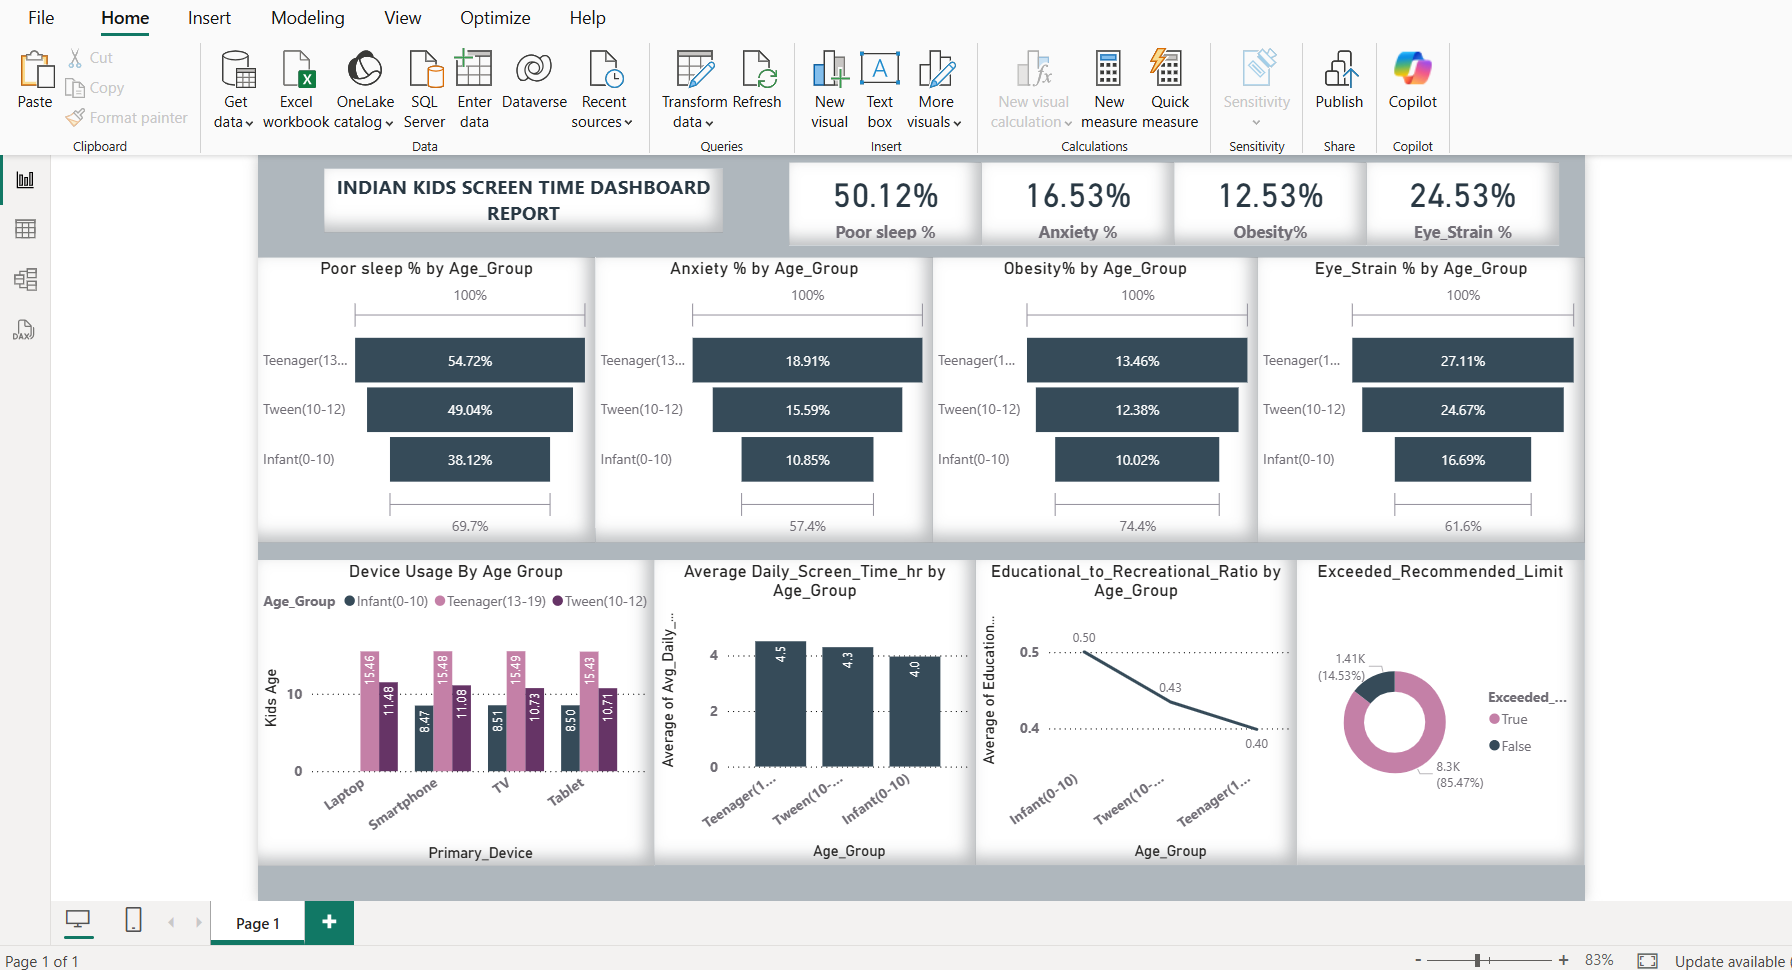

What the dashboard file says about the page in this screenshot:
{"tool":"powerbi","page":{"name":"Page 1","canvas":[1280,720],"ordinal":0},"visuals":[{"type":"clusteredColumnChart","title":" Device Usage By Age Group","fields":{"Category":["Indian_Kids_Screen_Time.Primary_Device"],"Y":["Avg(Indian_Kids_Screen_Time.Age)"],"Series":["Indian_Kids_Screen_Time.Age_Group"]},"box":[0,390.9,382.4,295.6],"z":0},{"type":"card","fields":{"Values":["Indian_Kids_Screen_Time.Measure"]},"box":[512.7,7.2,185.8,79.6],"z":1000},{"type":"card","fields":{"Values":["Indian_Kids_Screen_Time.Anxiety %"]},"box":[698.5,7.2,185.8,80],"z":2000},{"type":"card","fields":{"Values":["Indian_Kids_Screen_Time.Obesity%"]},"box":[884.3,7.2,185.8,80],"z":3000},{"type":"card","fields":{"Values":["Indian_Kids_Screen_Time.Eye_Strain %"]},"box":[1070.1,7.2,185.8,80],"z":4000},{"type":"donutChart","title":"Exceeded_Recommended_Limit","fields":{"Category":["Indian_Kids_Screen_Time.Exceeded_Recommended_Limit"],"Y":["CountNonNull(Indian_Kids_Screen_Time.Exceeded_Recommended_Limit)"]},"box":[1002.6,390.9,277.5,294.4],"z":5000},{"type":"funnel","fields":{"Category":["Indian_Kids_Screen_Time.Age_Group","Indian_Kids_Screen_Time.Urban_or_Rural"],"Y":["Indian_Kids_Screen_Time.Obesity%"]},"box":[651.5,98.9,313.7,275.1],"z":6000},{"type":"funnel","fields":{"Y":["Indian_Kids_Screen_Time.Poor sleep %"],"Category":["Indian_Kids_Screen_Time.Age_Group"]},"box":[0,98.9,325.7,275.1],"z":7000},{"type":"lineChart","title":"Educational_to_Recreational_Ratio by Age_Group","fields":{"Category":["Indian_Kids_Screen_Time.Age_Group"],"Y":["Avg(Indian_Kids_Screen_Time.Educational_to_Recreational_Ratio)"]},"box":[692.5,390.9,310.1,294.4],"z":8000},{"type":"columnChart","title":"Average Daily_Screen_Time_hr by Age_Group","fields":{"Y":["Avg(Indian_Kids_Screen_Time.Avg_Daily_Screen_Time_hr)"],"Category":["Indian_Kids_Screen_Time.Age_Group"]},"box":[382.4,390.9,310,294.4],"z":9000},{"type":"funnel","fields":{"Category":["Indian_Kids_Screen_Time.Age_Group"],"Y":["Indian_Kids_Screen_Time.Anxiety %"]},"box":[325.7,98.9,325.7,275.1],"z":10000},{"type":"funnel","fields":{"Category":["Indian_Kids_Screen_Time.Age_Group"],"Y":["Indian_Kids_Screen_Time.Eye_Strain %"]},"box":[965.2,98.9,314.9,275.1],"z":11000},{"type":"textbox","box":[63.9,13.3,384.9,61.5],"z":12000}]}

Visuals, with their boxes on the page's 1280x720 design canvas (x1, y1, x2, y2). These are canvas units, not pixel positions in the 1792x970 screenshot, which may show the page scaled, cropped or inside an application window:
" Device Usage By Age Group" clusteredColumnChart: crop(0, 391, 382, 686)
card - Indian_Kids_Screen_Time.Measure: crop(513, 7, 698, 87)
card - Indian_Kids_Screen_Time.Anxiety %: crop(698, 7, 884, 87)
card - Indian_Kids_Screen_Time.Obesity%: crop(884, 7, 1070, 87)
card - Indian_Kids_Screen_Time.Eye_Strain %: crop(1070, 7, 1256, 87)
"Exceeded_Recommended_Limit" donutChart: crop(1003, 391, 1280, 685)
funnel - Indian_Kids_Screen_Time.Age_Group x Indian_Kids_Screen_Time.Urban_or_Rural: crop(652, 99, 965, 374)
funnel - Indian_Kids_Screen_Time.Poor sleep % x Indian_Kids_Screen_Time.Age_Group: crop(0, 99, 326, 374)
"Educational_to_Recreational_Ratio by Age_Group" lineChart: crop(692, 391, 1003, 685)
"Average Daily_Screen_Time_hr by Age_Group" columnChart: crop(382, 391, 692, 685)
funnel - Indian_Kids_Screen_Time.Age_Group x Indian_Kids_Screen_Time.Anxiety %: crop(326, 99, 651, 374)
funnel - Indian_Kids_Screen_Time.Age_Group x Indian_Kids_Screen_Time.Eye_Strain %: crop(965, 99, 1280, 374)
textbox: crop(64, 13, 449, 75)
